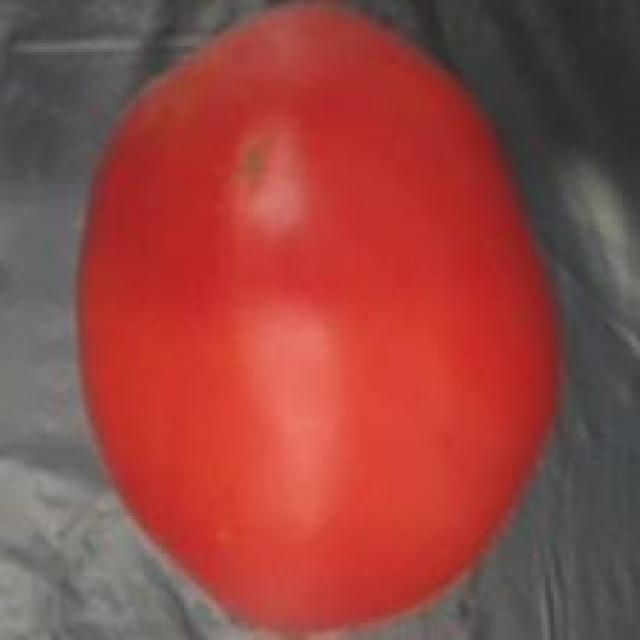ripe tomato: (63, 3, 568, 640)
